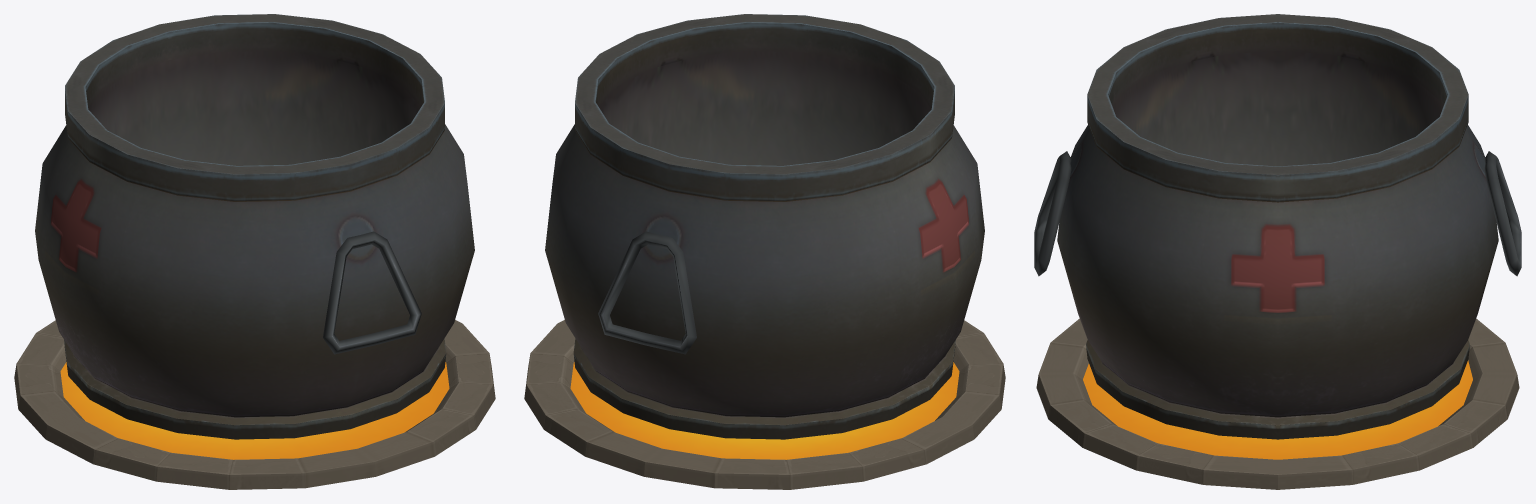
File: SM_ZSJ_guo001.FBX
The picture shows the model from 3 angles, left to right: view 1: azimuth 30°, elevation 25°; view 2: azimuth 150°, elevation 25°; view 3: azimuth 270°, elevation 25°; orthographic projection.
Parts seen in each view (by area): view 1: SM_ZSJ_guo001; view 2: SM_ZSJ_guo001; view 3: SM_ZSJ_guo001.
Part boxes in pixels (x1=…): SM_ZSJ_guo001: x1=14, y1=14, x2=495, y2=489; SM_ZSJ_guo001: x1=524, y1=14, x2=1005, y2=489; SM_ZSJ_guo001: x1=1034, y1=14, x2=1521, y2=489.
Bounding box in the file's own units: 266 × 178 × 269.
